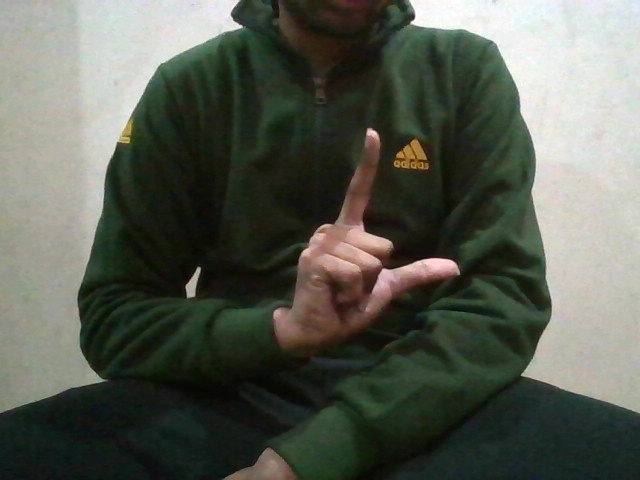L: (286, 127, 469, 343)
